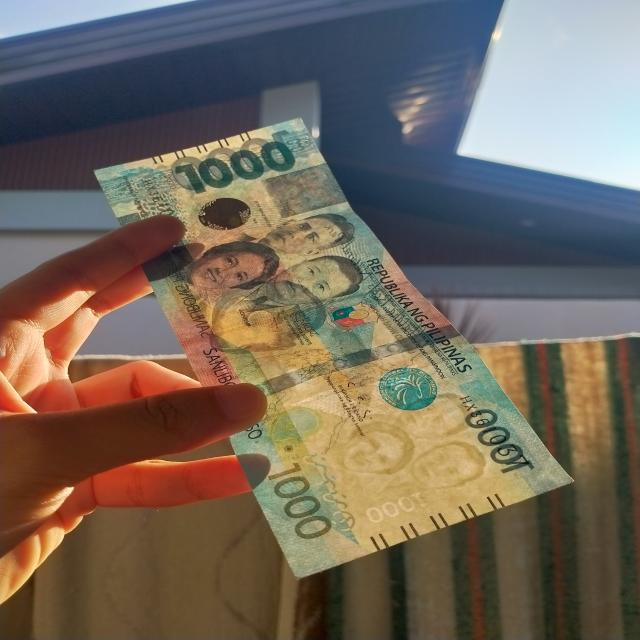concealed_value: (261, 163, 349, 218)
optically_variable_device: (178, 185, 266, 241)
security_thread: (256, 321, 464, 399)
see_through_mark: (296, 445, 363, 539)
serial_number: (454, 391, 536, 475), (140, 172, 194, 239)
value: (170, 136, 305, 202), (258, 453, 345, 548)
value_watermark: (359, 486, 436, 528)
watermark: (310, 385, 508, 520)
